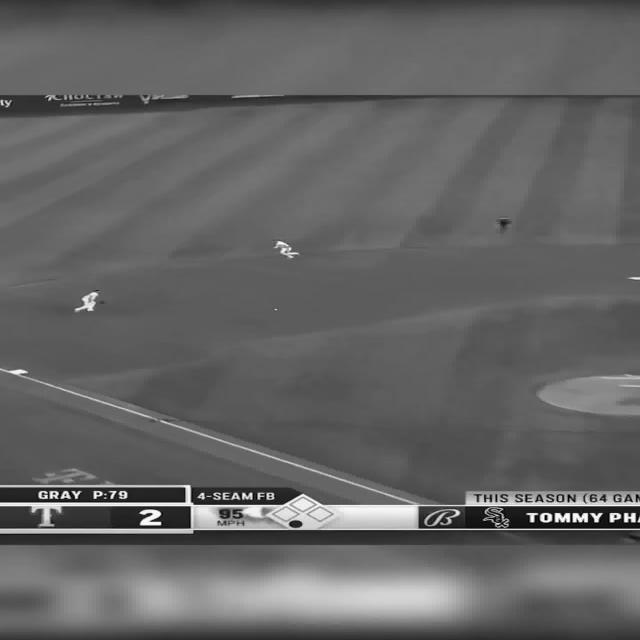baseball: (272, 308, 278, 311)
